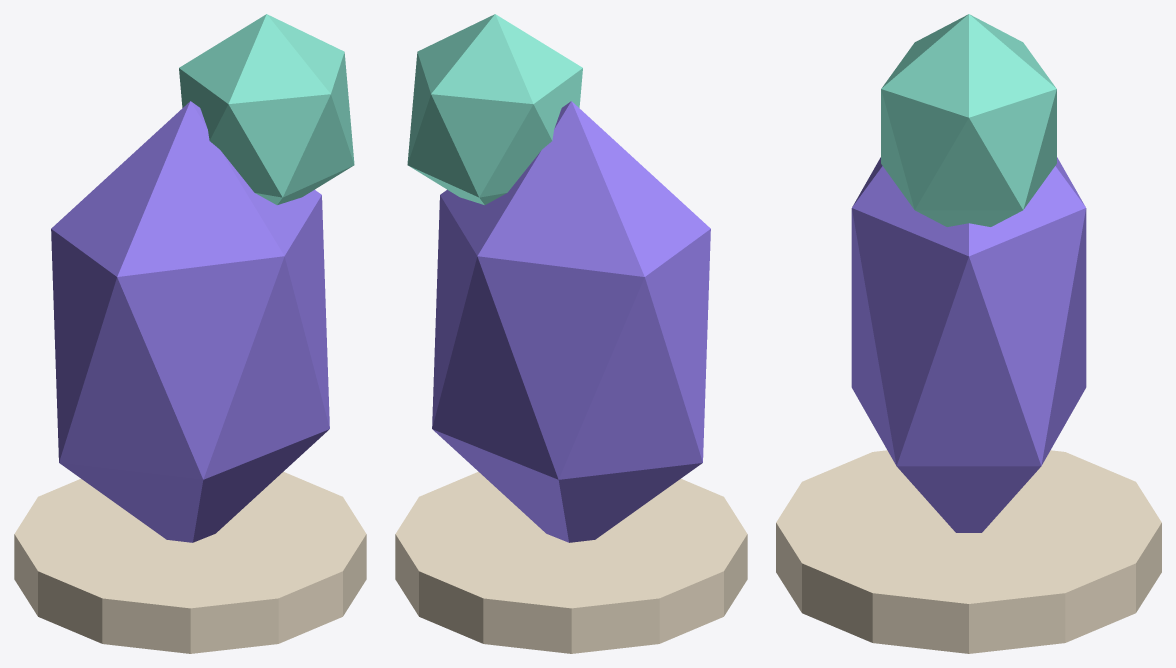
3 views of the same model, side by side, from view 1: azimuth 30°, elevation 25°; view 2: azimuth 150°, elevation 25°; view 3: azimuth 270°, elevation 25° (orthographic). The views are drawn at different scales.
Parts seen in each view (by area): view 1: Sculpture, Plinth, Crown; view 2: Sculpture, Plinth, Crown; view 3: Sculpture, Plinth, Crown.
Boxes of the visible parts, x1,y1,x2,y2 form: Sculpture: (51, 101, 329, 542); Plinth: (14, 472, 366, 653); Crown: (179, 14, 354, 204); Sculpture: (432, 101, 710, 542); Plinth: (395, 472, 747, 653); Crown: (407, 14, 582, 204); Sculpture: (851, 157, 1086, 532); Plinth: (776, 450, 1161, 653); Crown: (881, 14, 1056, 226).
Size of the model in its own units: 56.31 by 96 by 56.
